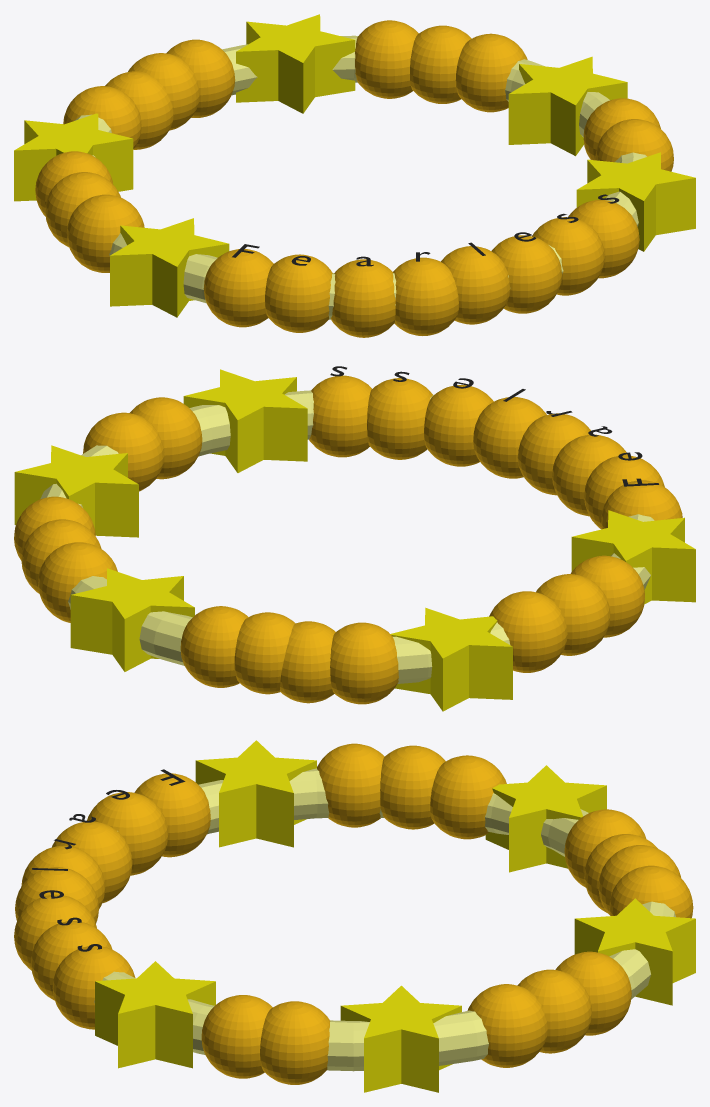
Rendered from Fearless_Fearless.fbx.
3 views of the same model, one above another, from view 1: azimuth 30°, elevation 25°; view 2: azimuth 150°, elevation 25°; view 3: azimuth 270°, elevation 25° (orthographic). The views are drawn at different scales.
Visible parts, largest first — view 1: Star.062, Star.070, Star.067, Star.061, Star.069, Torus.019, Sphere.371, Sphere.369, Sphere.370, Sphere.372, Sphere.378, Sphere.380 (+14 smaller); view 2: Star.069, Star.061, Star.062, Torus.019, Star.067, Star.070, Sphere.376, Sphere.367, Sphere.366, Sphere.383, Sphere.365, Sphere.381 (+14 smaller); view 3: Torus.019, Star.061, Star.070, Star.067, Star.062, Star.069, Sphere.382, Sphere.380, Sphere.367, Sphere.377, Sphere.375, Sphere.368 (+14 smaller).
Boxes of the visible parts, <box> form: Star.062: <box>236,14,355,113</box>; Star.070: <box>110,218,229,317</box>; Star.067: <box>508,56,627,156</box>; Star.061: <box>576,152,695,251</box>; Star.069: <box>14,113,133,201</box>; Torus.019: <box>74,35,646,319</box>; Sphere.371: <box>265,254,332,332</box>; Sphere.369: <box>393,257,458,335</box>; Sphere.370: <box>331,259,395,337</box>; Sphere.372: <box>203,249,273,327</box>; Sphere.378: <box>355,20,418,98</box>; Sphere.380: <box>455,33,527,112</box>; Star.069: <box>390,607,512,711</box>; Star.061: <box>183,369,307,472</box>; Star.062: <box>70,568,194,671</box>; Torus.019: <box>40,390,654,683</box>; Star.067: <box>14,445,138,537</box>; Star.070: <box>571,510,695,604</box>; Sphere.376: <box>330,622,398,704</box>; Sphere.367: <box>489,591,567,672</box>; Sphere.366: <box>367,378,432,459</box>; Sphere.383: <box>309,375,371,457</box>; Sphere.365: <box>180,606,248,687</box>; Sphere.381: <box>424,385,493,466</box>; Torus.019: <box>94,768,675,1071</box>; Star.061: <box>95,961,215,1068</box>; Star.070: <box>195,740,316,847</box>; Star.067: <box>340,985,461,1092</box>; Star.062: <box>574,898,695,1005</box>; Star.069: <box>485,765,606,872</box>; Sphere.382: <box>260,1001,330,1084</box>; Sphere.380: <box>467,984,547,1067</box>; Sphere.367: <box>430,755,506,839</box>; Sphere.377: <box>317,743,384,827</box>; Sphere.375: <box>201,995,272,1078</box>; Sphere.368: <box>380,745,445,829</box>.
Bounding box in the file's own units: 117 × 15.79 × 114.
